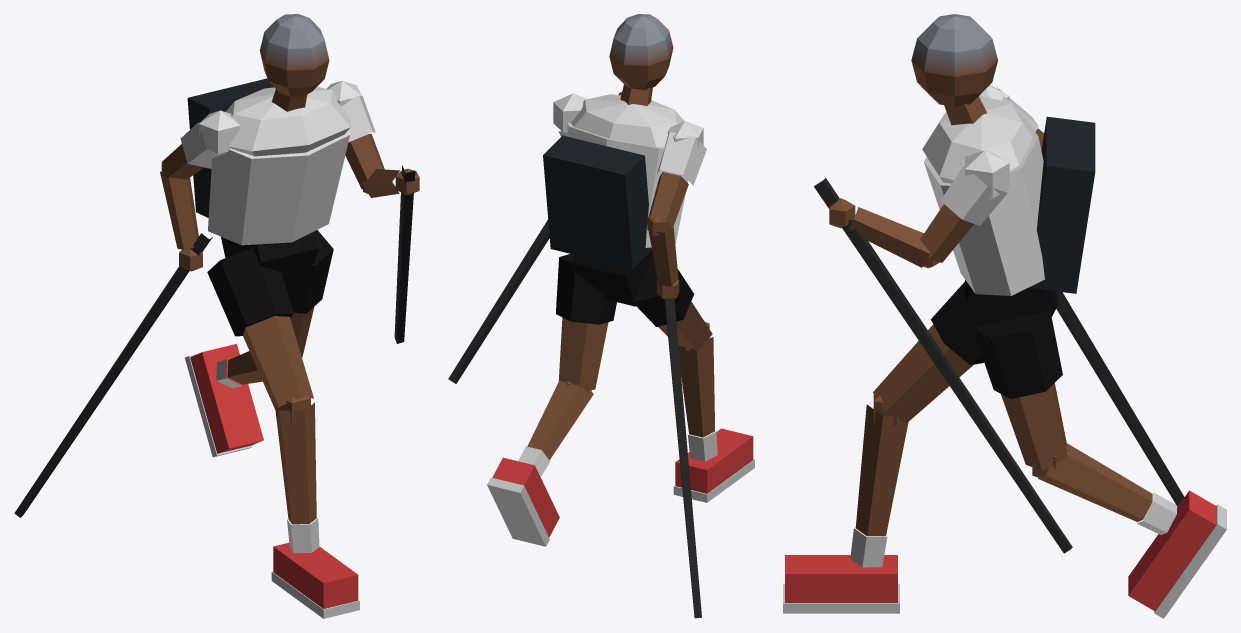
The model's file is corredor-e.glb.
3 renders of one model, left to right at view 1: azimuth 30°, elevation 25°; view 2: azimuth 150°, elevation 25°; view 3: azimuth 270°, elevation 25°, orthographic. The views are drawn at different scales.
Visible parts, largest first — view 1: Corredor_E_HombreMedioCorpulento_EXP; view 2: Corredor_E_HombreMedioCorpulento_EXP; view 3: Corredor_E_HombreMedioCorpulento_EXP.
Part boxes in pixels (x1,y1,x2,y2): Corredor_E_HombreMedioCorpulento_EXP: (14,14,419,618); Corredor_E_HombreMedioCorpulento_EXP: (448,14,754,618); Corredor_E_HombreMedioCorpulento_EXP: (783,14,1226,618).
Size of the model in its own units: 1.14 by 1.77 by 1.18.
